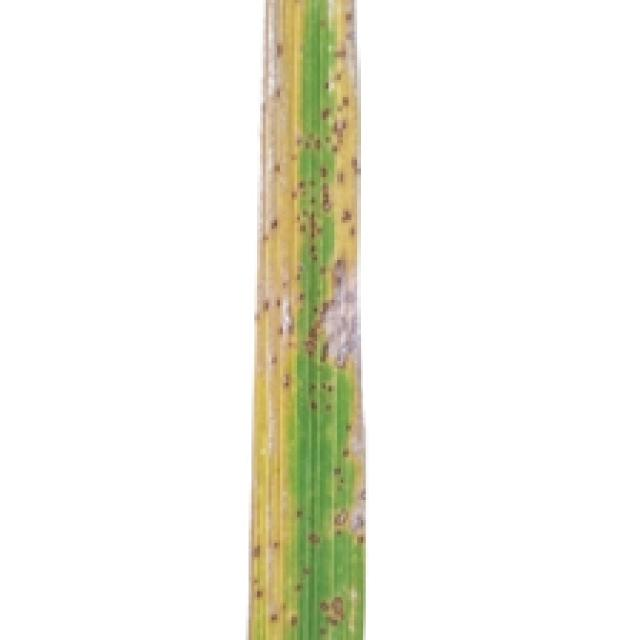Rice___Brown_Spot: (250, 2, 364, 637)
